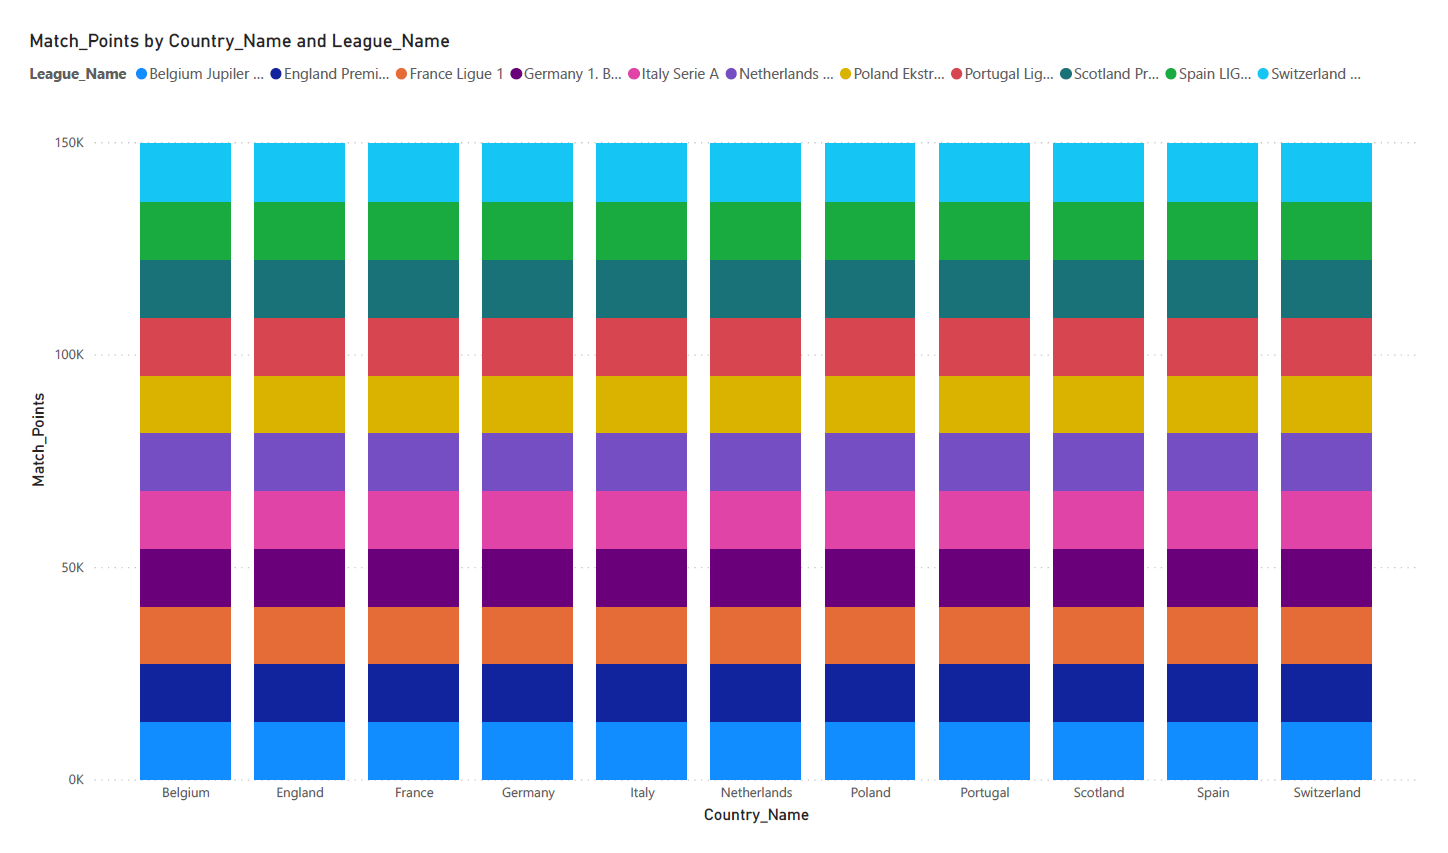

The dashboard page shown, as its layout file describes it:
{"tool":"powerbi","page":{"name":"Page 1","canvas":[1280,720],"ordinal":0},"visuals":[{"type":"columnChart","fields":{"Category":["Country_Dimension.Country_Name"],"Y":["Sum(Points_Fact.Match_Points)"],"Series":["League_Dimension.League_Name"]},"box":[9.6,0,1260.8,719.7],"z":0}]}

Visuals, with their boxes on the page's 1280x720 design canvas (x1, y1, x2, y2). These are canvas units, not pixel positions in the 1448x853 screenshot, which may show the page scaled, cropped or inside an application window:
columnChart - Country_Dimension.Country_Name x Sum(Points_Fact.Match_Points): <region>10, 0, 1270, 720</region>
